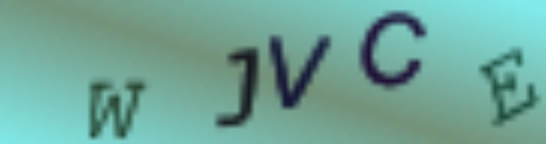C: (356, 8, 429, 88)
E: (473, 48, 542, 126)
J: (206, 41, 263, 130)
V: (267, 33, 331, 115)
W: (83, 76, 152, 142)
